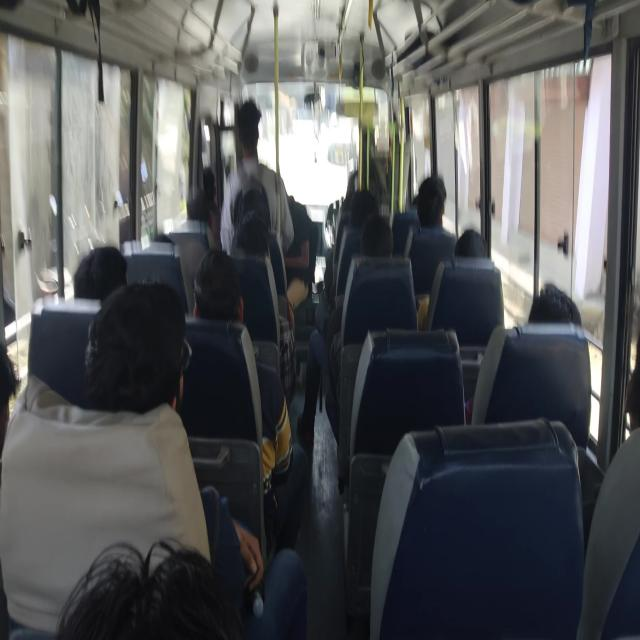person: (89, 542, 221, 640), (100, 273, 185, 407), (58, 246, 127, 309), (530, 282, 580, 348), (190, 257, 244, 318), (234, 86, 269, 174), (598, 348, 640, 421), (346, 185, 391, 244), (0, 338, 29, 428), (368, 218, 412, 274), (416, 178, 455, 229), (452, 228, 490, 280), (238, 214, 270, 265), (186, 200, 220, 243), (236, 184, 268, 221), (199, 167, 221, 202)
